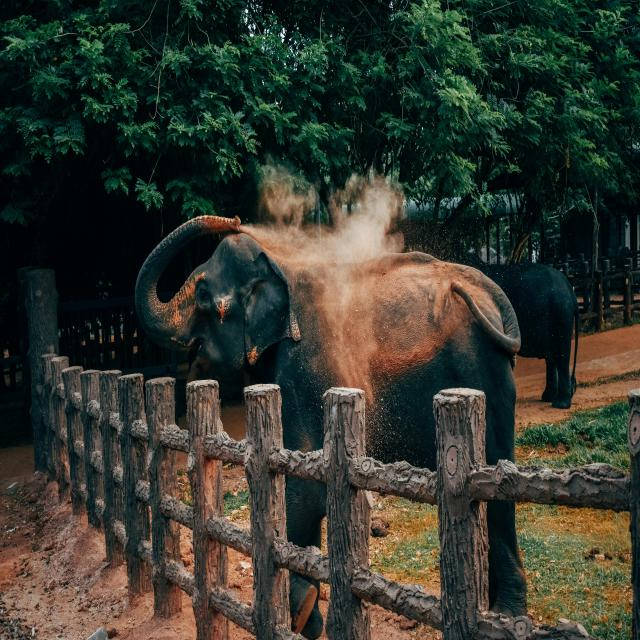Elephant: (134, 215, 529, 640), (458, 262, 580, 409)
